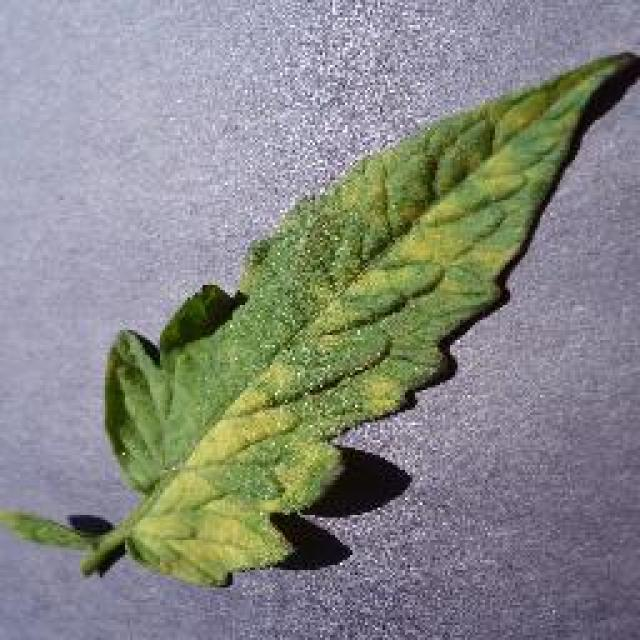Tomato mold leaf: (101, 54, 634, 594)
